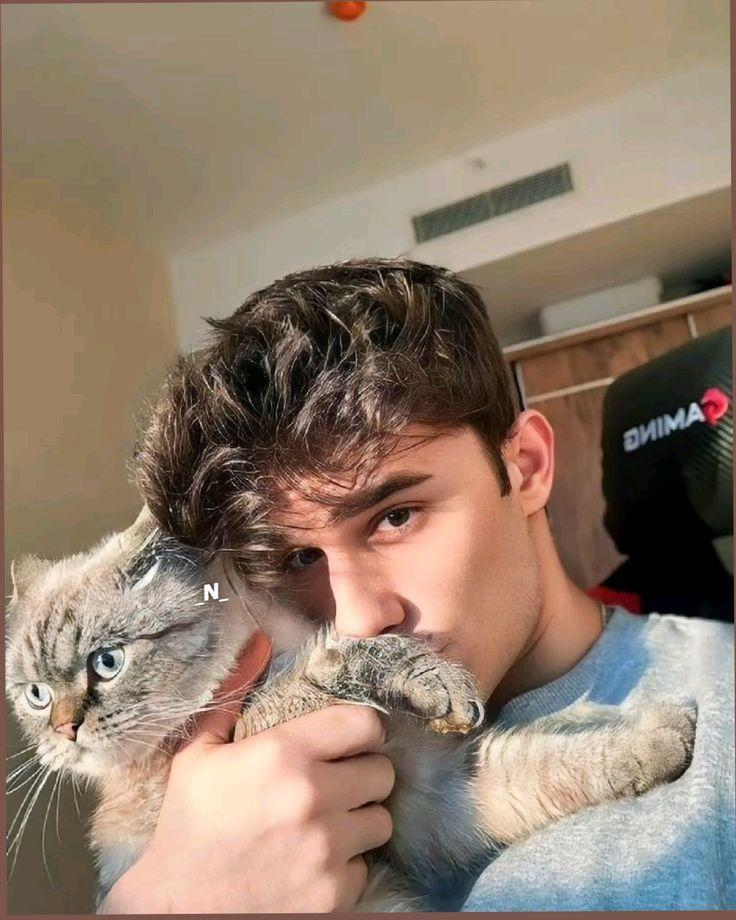kedo: (3, 497, 704, 897)
